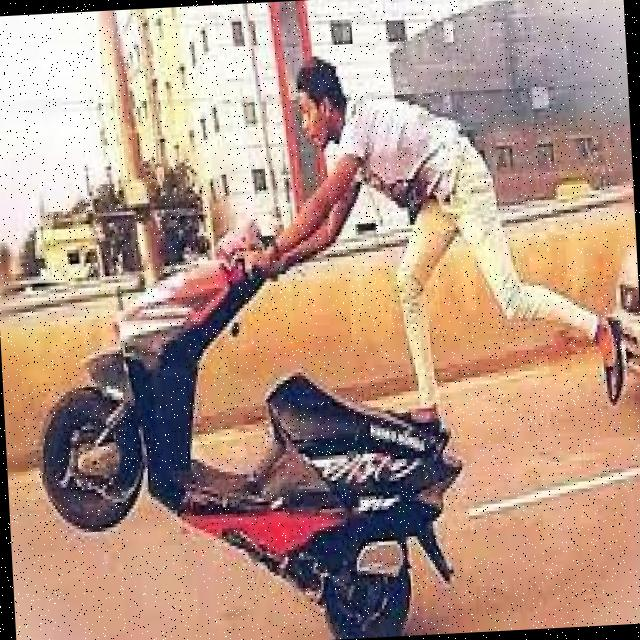Wheeling: (31, 29, 526, 640)
